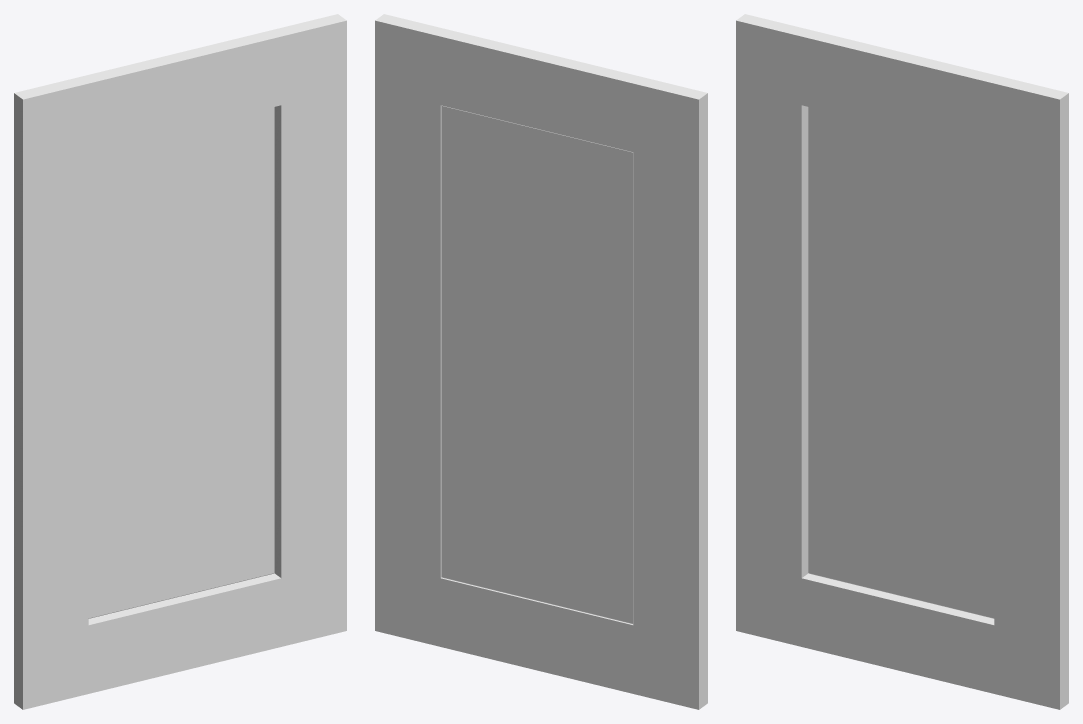
Rendered from front_top_uveges_40_r.glb.
The picture shows the model from 3 angles, left to right: view 1: azimuth 30°, elevation 25°; view 2: azimuth 150°, elevation 25°; view 3: azimuth 330°, elevation 25°; orthographic projection.
Parts seen in each view (by area): view 1: front_top_uveges_40_R; view 2: front_top_uveges_40_R; view 3: front_top_uveges_40_R.
Boxes of the visible parts, bbox=[...] form: front_top_uveges_40_R: bbox=[14, 14, 346, 709]; front_top_uveges_40_R: bbox=[375, 14, 707, 709]; front_top_uveges_40_R: bbox=[736, 14, 1068, 709].
Bounding box in the file's own units: 0.3948 × 0.711 × 0.019.
2 materials, 2 textured.
